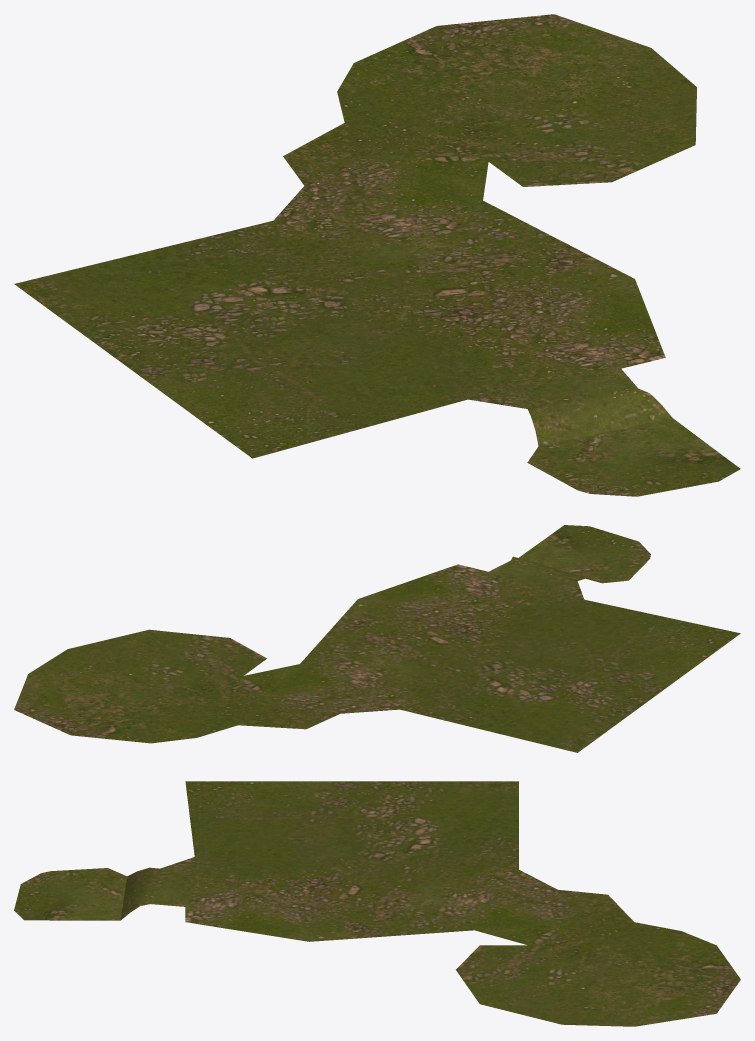
3 renders of one model, top to bottom at view 1: azimuth 30°, elevation 25°; view 2: azimuth 150°, elevation 25°; view 3: azimuth 270°, elevation 25°, orthographic. The views are drawn at different scales.
Parts seen in each view (by area): view 1: 平面; view 2: 平面; view 3: 平面.
Boxes of the visible parts, bbox=[...] form: 平面: bbox=[14, 14, 740, 496]; 平面: bbox=[14, 525, 740, 752]; 平面: bbox=[14, 781, 740, 1026].
Size of the model in its own units: 10592 by 244 by 13248.
1 material, 1 textured.
